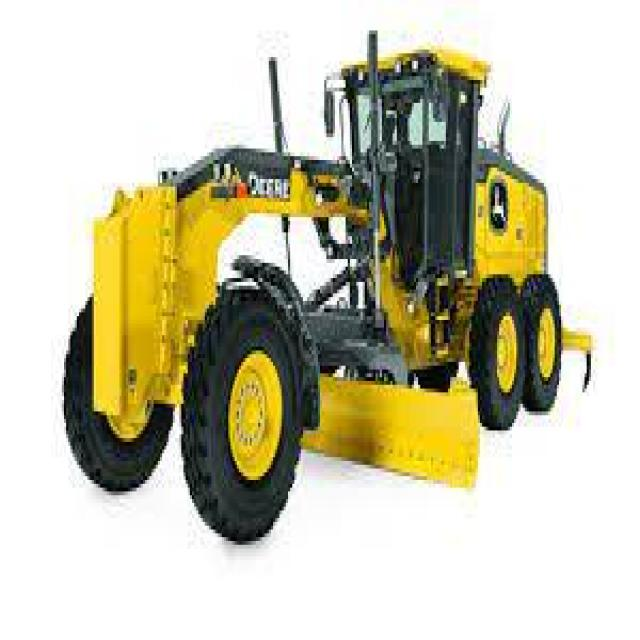Grader: (55, 19, 638, 549)
